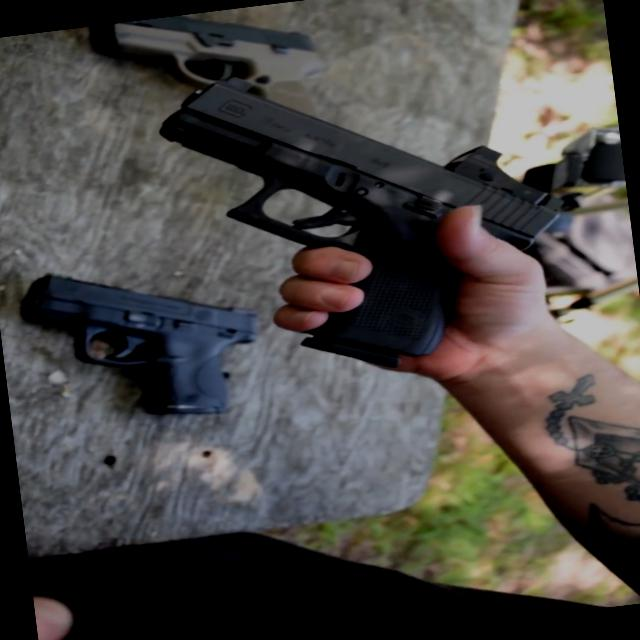handgun: (166, 36, 550, 406), (32, 214, 293, 461), (65, 0, 353, 164)
